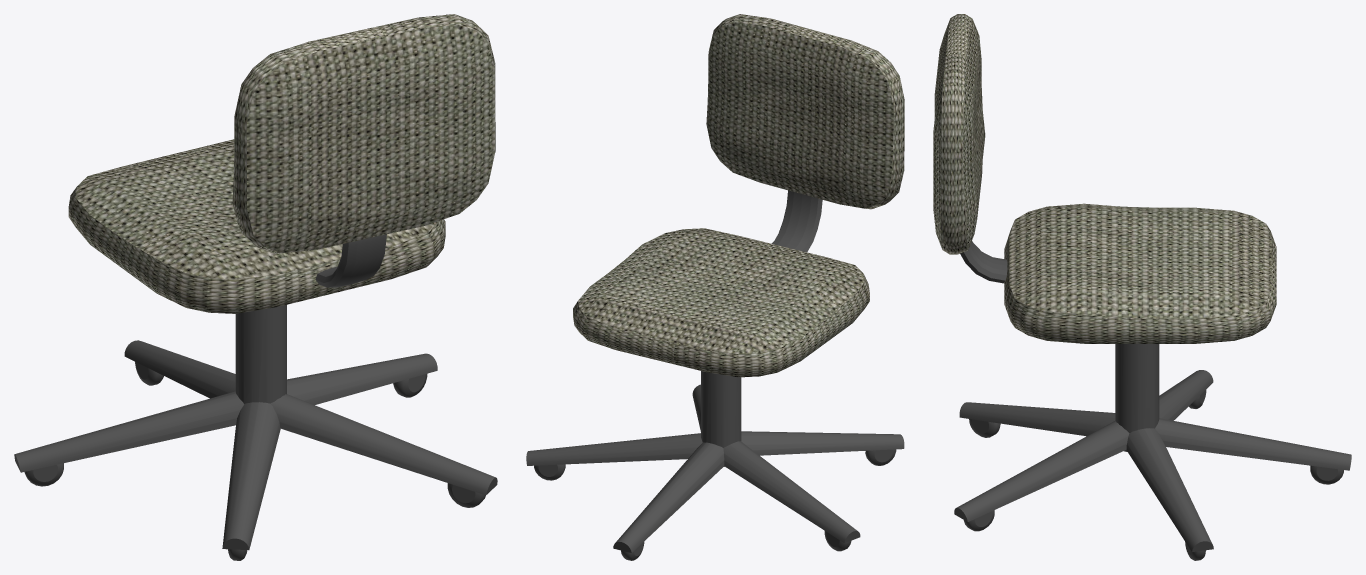
Rendered from Chair.fbx.
The picture shows the model from 3 angles, left to right: view 1: azimuth 30°, elevation 25°; view 2: azimuth 150°, elevation 25°; view 3: azimuth 270°, elevation 25°; orthographic projection. The views are drawn at different scales.
Parts seen in each view (by area): view 1: polySurface14; view 2: polySurface14; view 3: polySurface14.
Boxes of the visible parts, <box> form: polySurface14: <box>14,14,497,560</box>; polySurface14: <box>526,14,904,560</box>; polySurface14: <box>933,14,1351,560</box>.
Bounding box in the file's own units: 5.99 × 7.02 × 6.12.
Materials: 1 (1 with a texture image).
